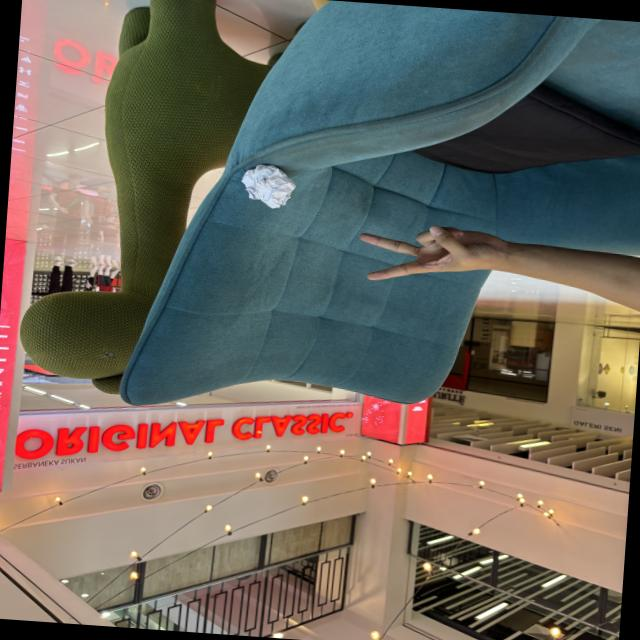crumpled_paper: (236, 158, 301, 214)
